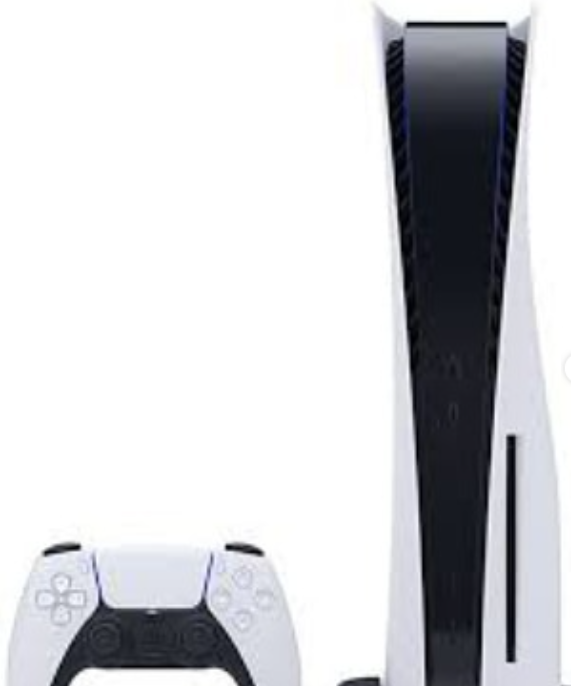gamingconsole: (5, 544, 300, 686)
